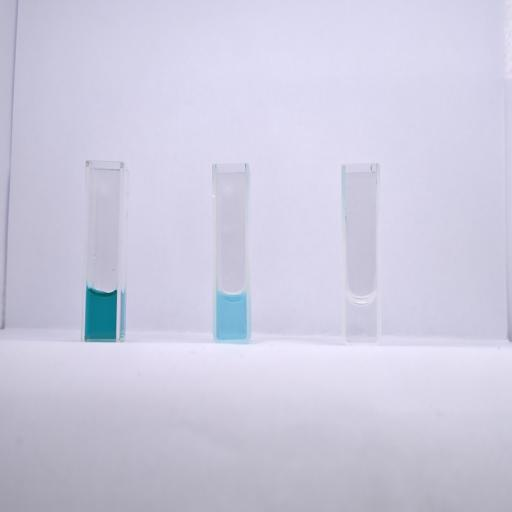cuvette: (79, 160, 126, 344), (339, 161, 383, 348), (212, 162, 252, 344)
liquid: (86, 286, 117, 338), (346, 293, 378, 343), (217, 291, 246, 339)
